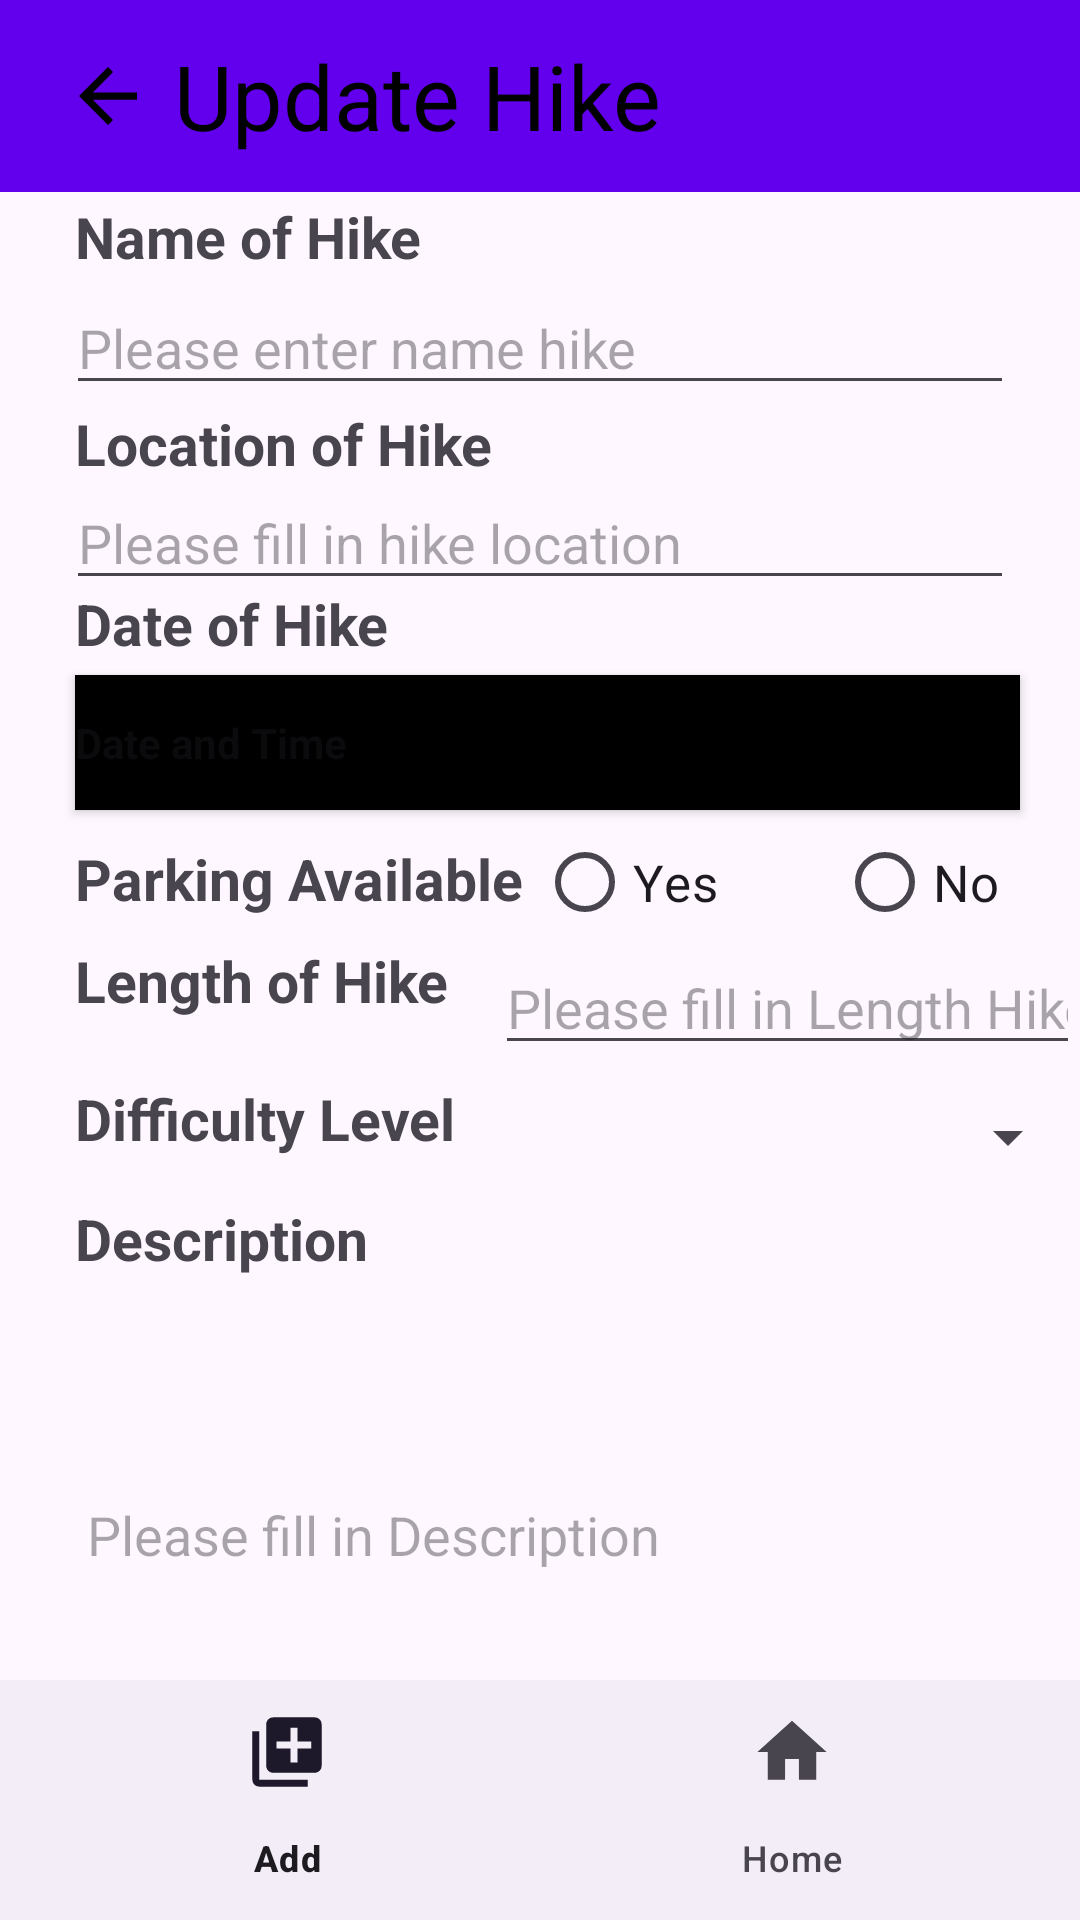

Point at icon controls on the screen. Image size 1080px×1920px, points as (x,y).
back: (108,96)
